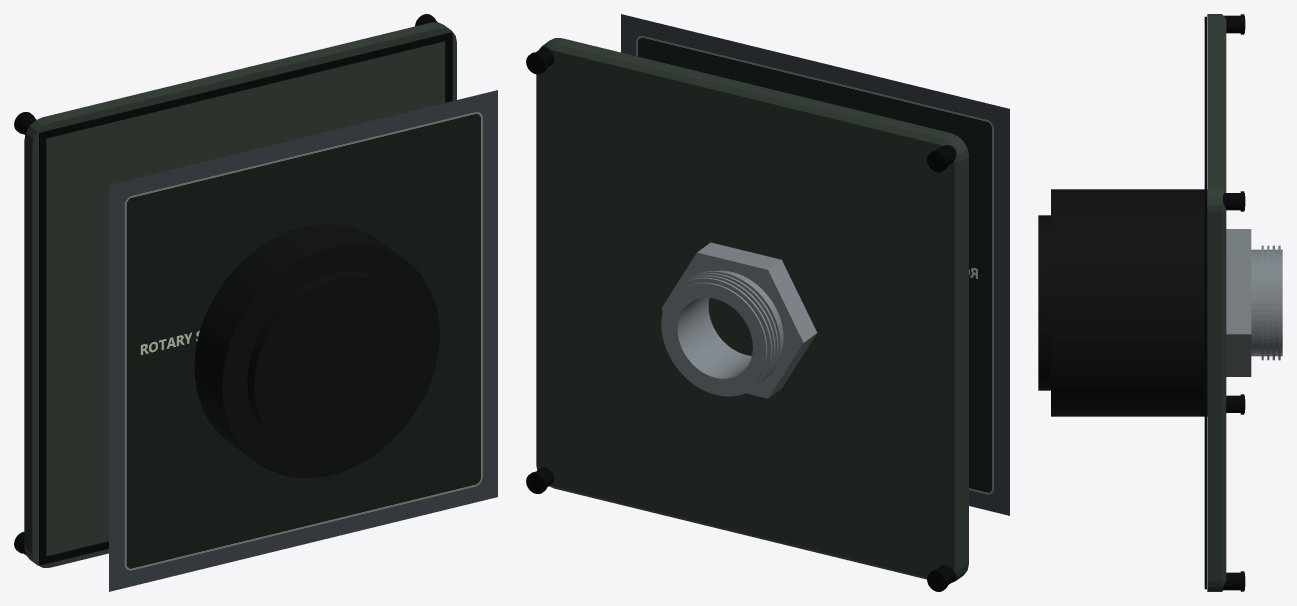
Rendered from MFDStudio.obj.
The picture shows the model from 3 angles, left to right: view 1: azimuth 30°, elevation 25°; view 2: azimuth 150°, elevation 25°; view 3: azimuth 270°, elevation 25°; orthographic projection. The views are drawn at different scales.
Visible parts, largest first — view 1: MFDStudioScreen, MFDStudioBase, MFDStudioActuator, MFDStudioMount, MFDStudioScrews; view 2: MFDStudioBase, MFDStudioScreen, MFDStudioMount, MFDStudioScrews; view 3: MFDStudioMount, MFDStudioBase, MFDStudioActuator, MFDStudioScrews.
Part boxes in pixels (bbox=[...]): MFDStudioScreen: bbox=[109, 90, 497, 591]; MFDStudioBase: bbox=[24, 22, 456, 567]; MFDStudioActuator: bbox=[247, 271, 421, 456]; MFDStudioMount: bbox=[194, 224, 439, 478]; MFDStudioScrews: bbox=[14, 14, 437, 554]; MFDStudioBase: bbox=[536, 38, 968, 582]; MFDStudioScreen: bbox=[621, 14, 1009, 515]; MFDStudioMount: bbox=[661, 242, 817, 398]; MFDStudioScrews: bbox=[526, 46, 956, 591]; MFDStudioMount: bbox=[1051, 189, 1282, 416]; MFDStudioBase: bbox=[1204, 14, 1226, 591]; MFDStudioActuator: bbox=[1038, 192, 1159, 390]; MFDStudioScrews: bbox=[1222, 14, 1245, 591].
Size of the model in its own units: 0.071 by 0.071 by 0.039.
7 materials, 1 textured.
